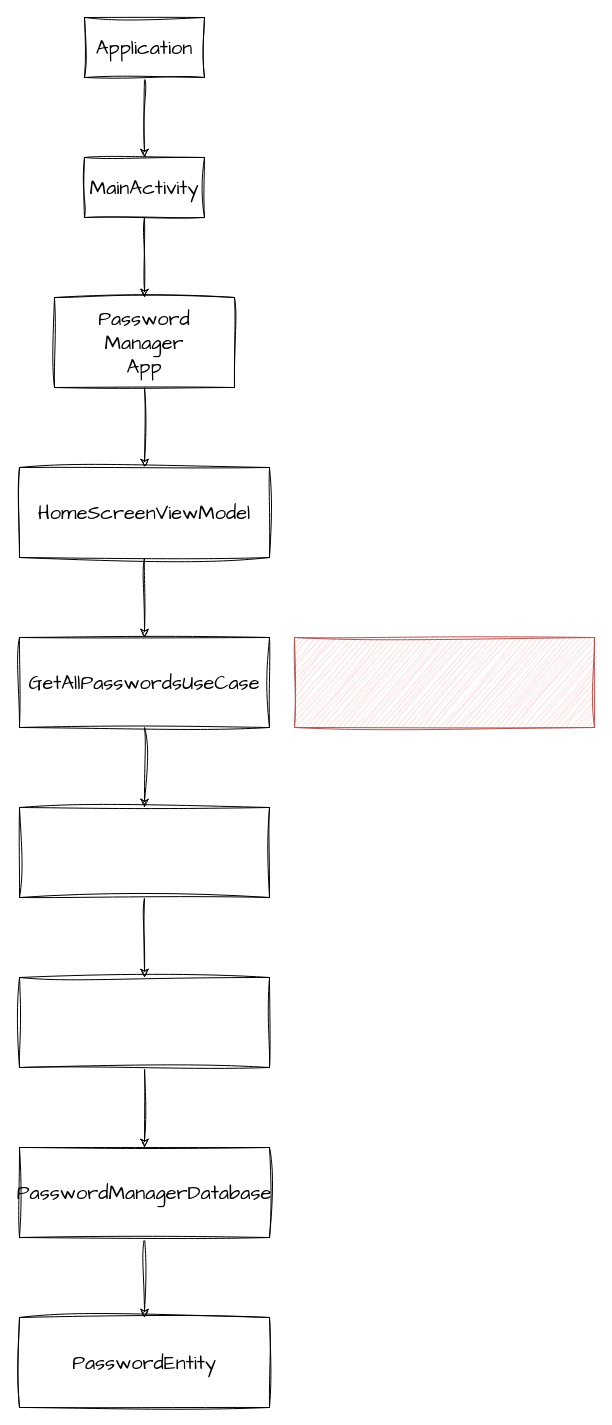
This 612x1425 diagram has some shape labels left out. The centre of each missing label's shape, as x and y in pixels:
"GeneratePasswordUseCase" belongs at point (444, 682).
"PasswordRepository" belongs at point (144, 852).
"PasswordsDAO" belongs at point (144, 1022).
